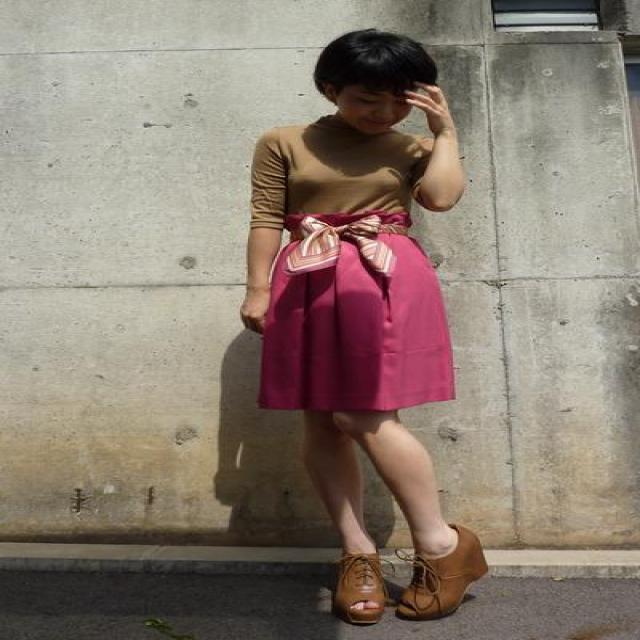shirt: (250, 113, 440, 217)
shoe: (320, 525, 498, 626)
skirt: (251, 204, 458, 415)
